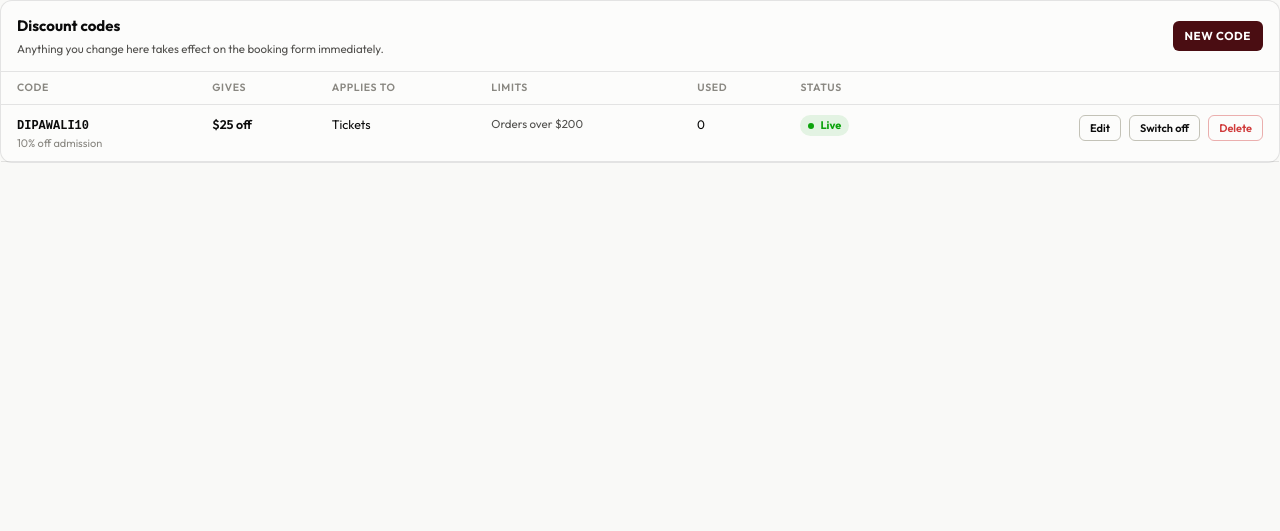
Scenario: Editing a code › prefills from the row, in dollars
The width and height of the screenshot is (1280, 531).
Click the button "Edit" at (1100, 128), box left=1079, top=114, right=1121, bottom=141
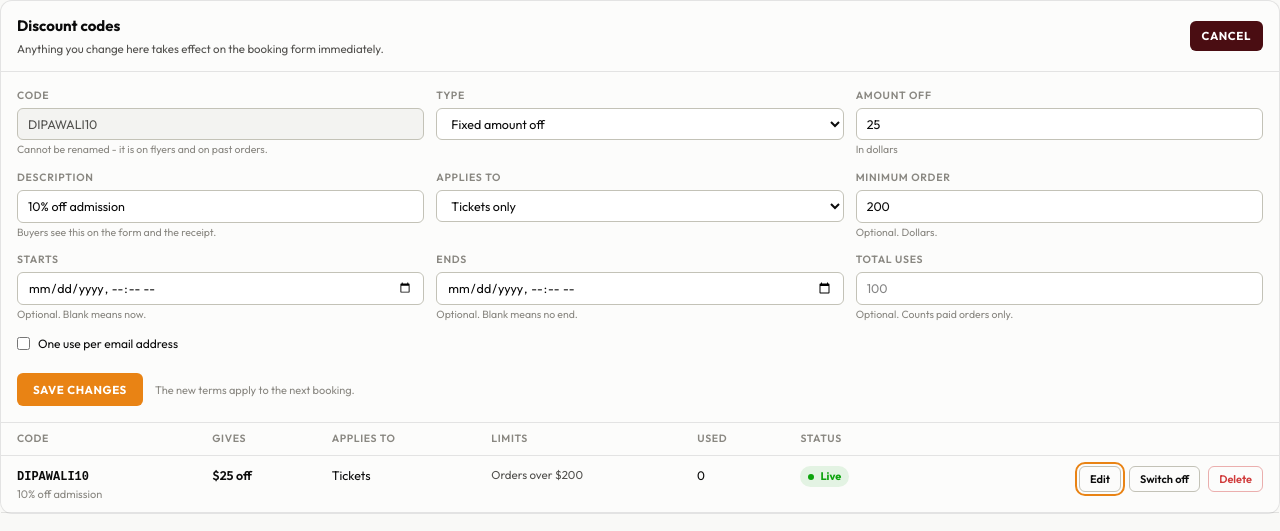
Now the field labelled "Amount off In dollars" holds "25", box left=856, top=108, right=1263, bottom=140
Now the field labelled "Minimum order Optional. Dollars." holds "200", box left=856, top=190, right=1263, bottom=223
